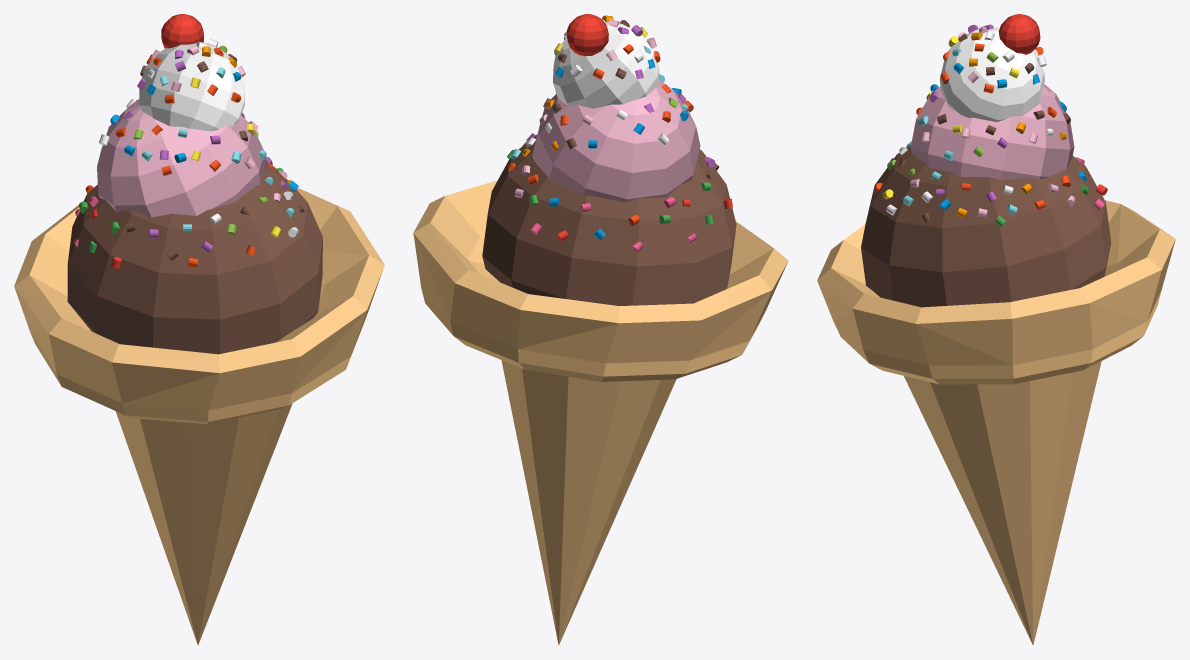
3 views of the same model, side by side, from view 1: azimuth 30°, elevation 25°; view 2: azimuth 150°, elevation 25°; view 3: azimuth 270°, elevation 25° (orthographic). The views are drawn at different scales.
Visible parts, largest first — view 1: group767205494, group145392274, group537253394, group360525931, group1590638290, group926926064; view 2: group145392274, group767205494, group537253394, group360525931, group1590638290, group926926064; view 3: group145392274, group767205494, group537253394, group360525931, group1590638290, group926926064.
Part boxes in pixels (left/top/right/bottom): group767205494: left=67, top=159, right=322, bottom=354; group145392274: left=14, top=188, right=384, bottom=424; group537253394: left=115, top=403, right=292, bottom=645; group360525931: left=97, top=99, right=265, bottom=217; group1590638290: left=139, top=42, right=244, bottom=131; group926926064: left=161, top=14, right=203, bottom=48; group145392274: left=413, top=180, right=788, bottom=381; group767205494: left=482, top=134, right=736, bottom=305; group537253394: left=501, top=360, right=676, bottom=645; group360525931: left=532, top=79, right=700, bottom=202; group1590638290: left=553, top=22, right=659, bottom=108; group926926064: left=566, top=14, right=608, bottom=56; group145392274: left=817, top=200, right=1175, bottom=384; group767205494: left=861, top=145, right=1111, bottom=307; group537253394: left=904, top=361, right=1101, bottom=645; group360525931: left=910, top=84, right=1074, bottom=180; group1590638290: left=939, top=27, right=1044, bottom=121; group926926064: left=998, top=14, right=1040, bottom=54.
Bounding box in the file's own units: 0.853 × 1.61 × 0.8435.
